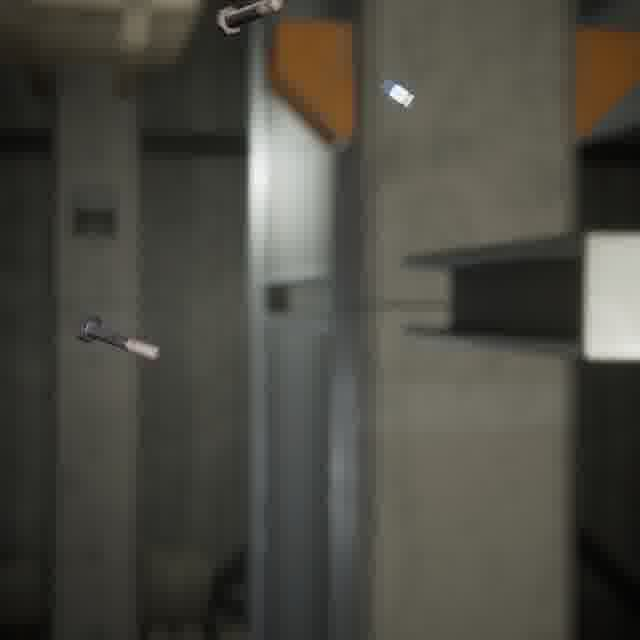bolt: (70, 308, 168, 366), (210, 0, 289, 40)
nut: (375, 73, 418, 111)
